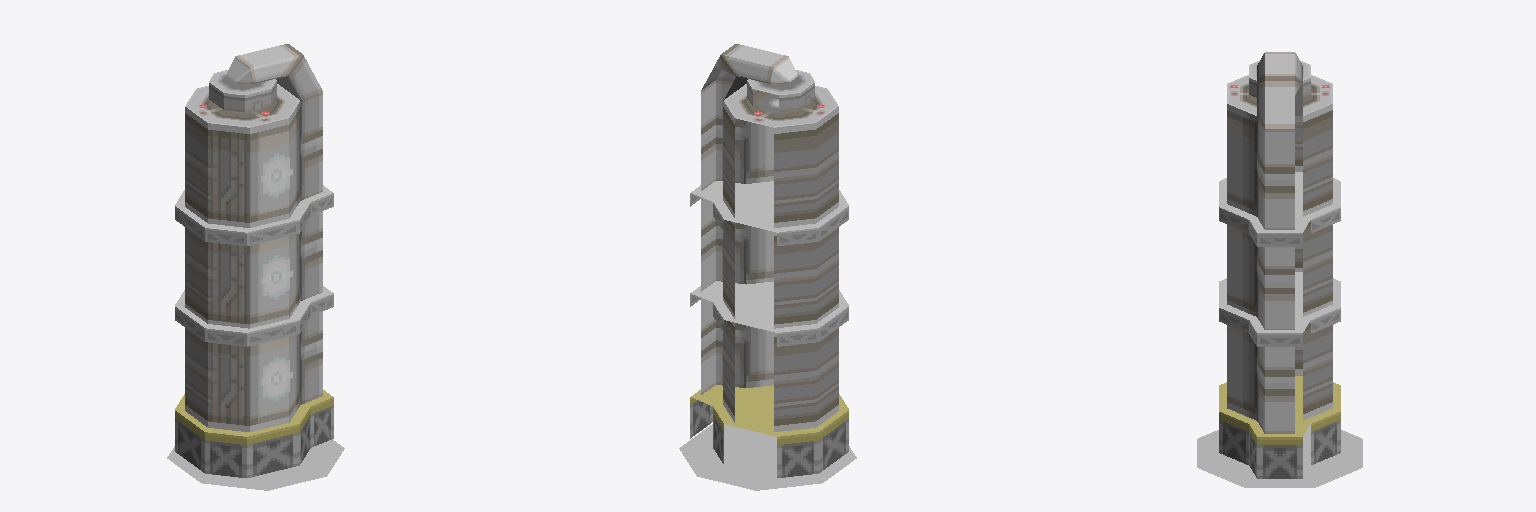
3 views of the same model, side by side, from view 1: azimuth 30°, elevation 25°; view 2: azimuth 150°, elevation 25°; view 3: azimuth 270°, elevation 25° (orthographic).
Parts seen in each view (by area): view 1: polygon1, polygon3, polygon4, polygon2; view 2: polygon1, polygon3, polygon2; view 3: polygon1, polygon3, polygon2.
Part boxes in pixels (x1,y1,x2,y2): polygon1: (185,44,322,431); polygon3: (175,70,333,477); polygon4: (261,153,292,401); polygon2: (167,439,344,490); polygon1: (701,44,838,431); polygon3: (690,70,848,477); polygon2: (679,424,856,490); polygon1: (1227,52,1332,433); polygon3: (1219,61,1340,478); polygon2: (1197,424,1362,487).
Size of the model in its own units: 2.71 by 7.12 by 2.71.
5 materials, 4 textured.